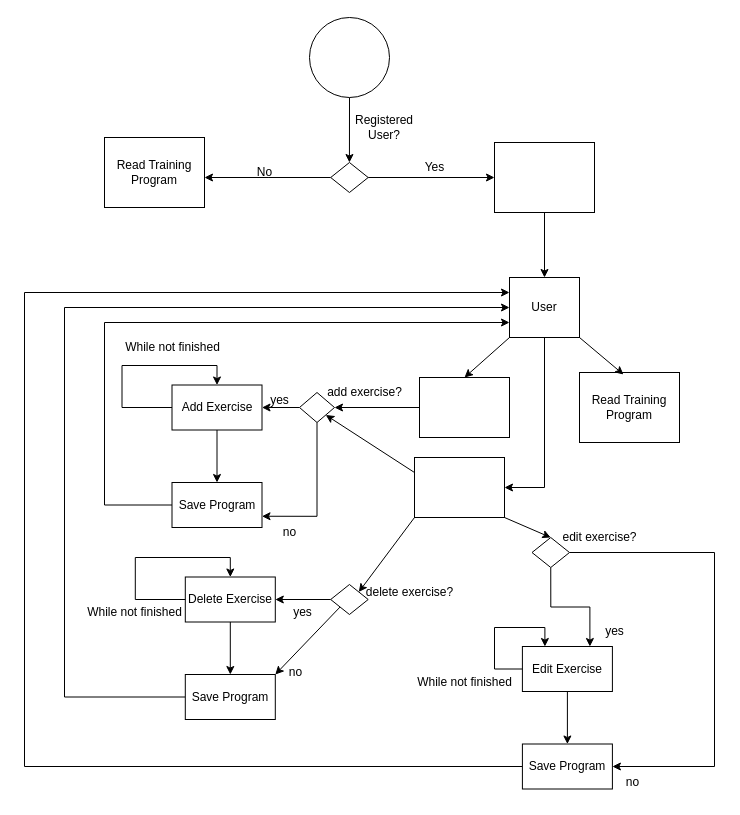
Image size: 740x815. Some labels were removed from this diagram. The box of each missing label's shape, as (x1, y1, x2, y2) in pixels:
Edit Training Program: (414, 456, 504, 518)
Landing Page: (308, 16, 390, 98)
Login: (494, 142, 594, 212)
Write Training Program: (418, 376, 510, 438)
